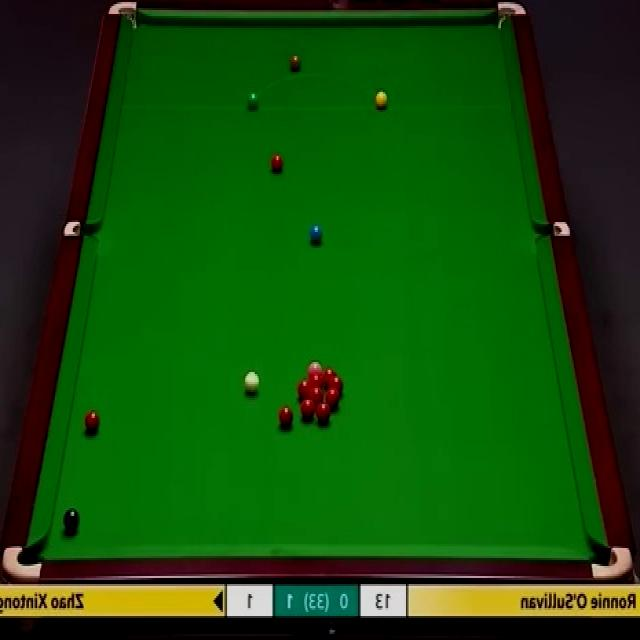pocket: (0, 543, 45, 582), (589, 548, 632, 582), (107, 2, 137, 30), (497, 3, 527, 29), (65, 222, 99, 238), (536, 221, 568, 237)
